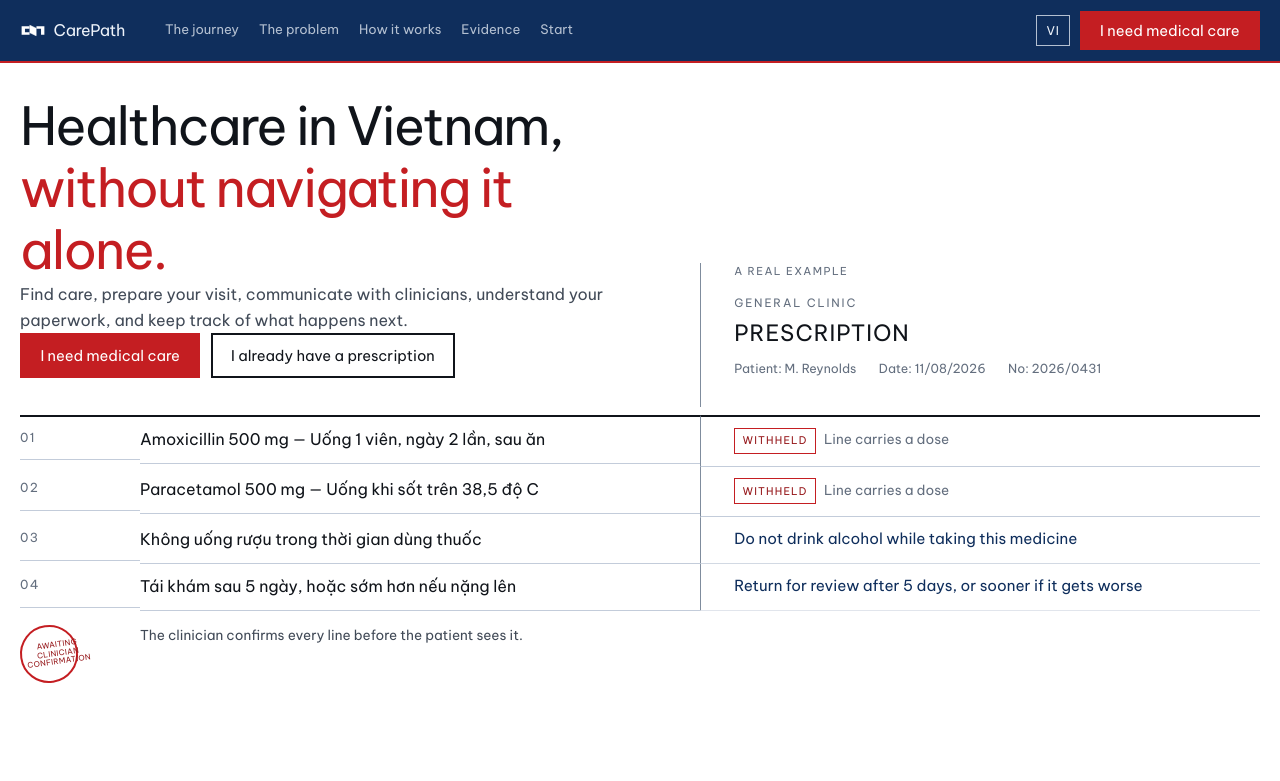
Test case: LandingPage › keeps the Vietnamese page complete for the clinic that reads it
This screenshot has width=1280, height=781.
Click the button with aria-label "Chuyển sang tiếng Việt" at (1053, 31), box [1036,15,1070,46]
(page scrolled)
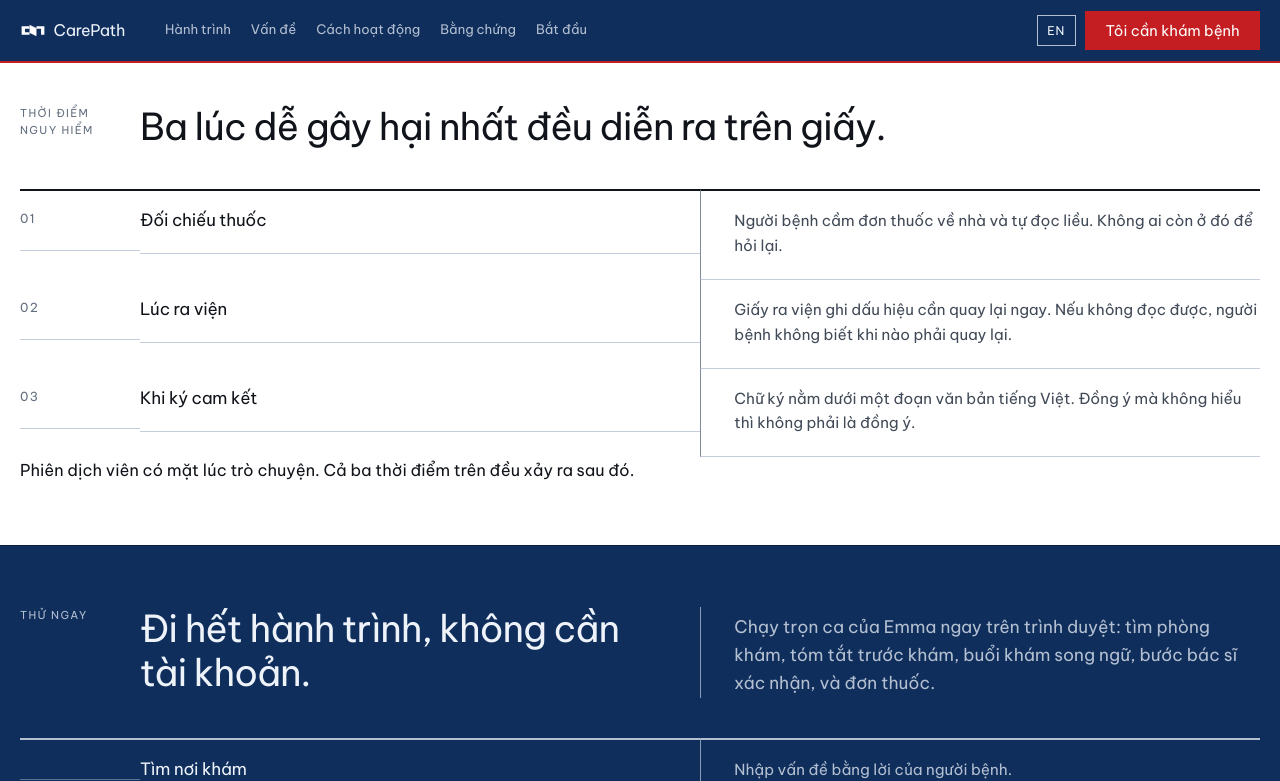
Check: the heading "Đối chiếu thuốc" is shown, box [140,189,700,254]
Check: the heading "Lúc ra viện" is shown, box [140,280,700,343]
Check: the heading "Khi ký cam kết" is shown, box [140,369,700,432]
